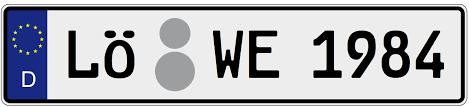1: (309, 26, 344, 81)
4: (414, 27, 446, 81)
8: (381, 29, 411, 80)
9: (345, 27, 378, 82)
E: (246, 28, 282, 80)
L: (64, 27, 101, 82)
W: (210, 27, 244, 81)
oe: (101, 25, 138, 80)
